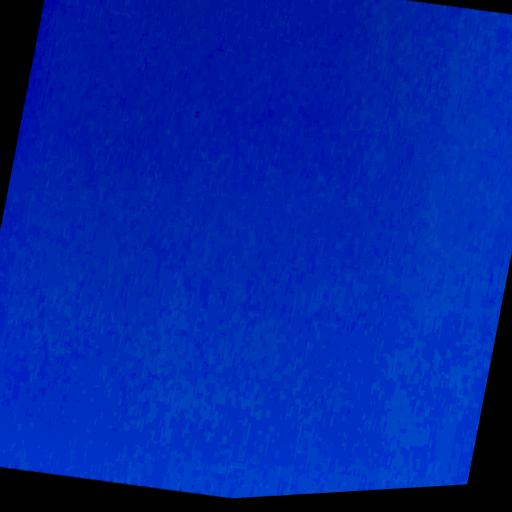drones: (194, 108, 202, 120)
